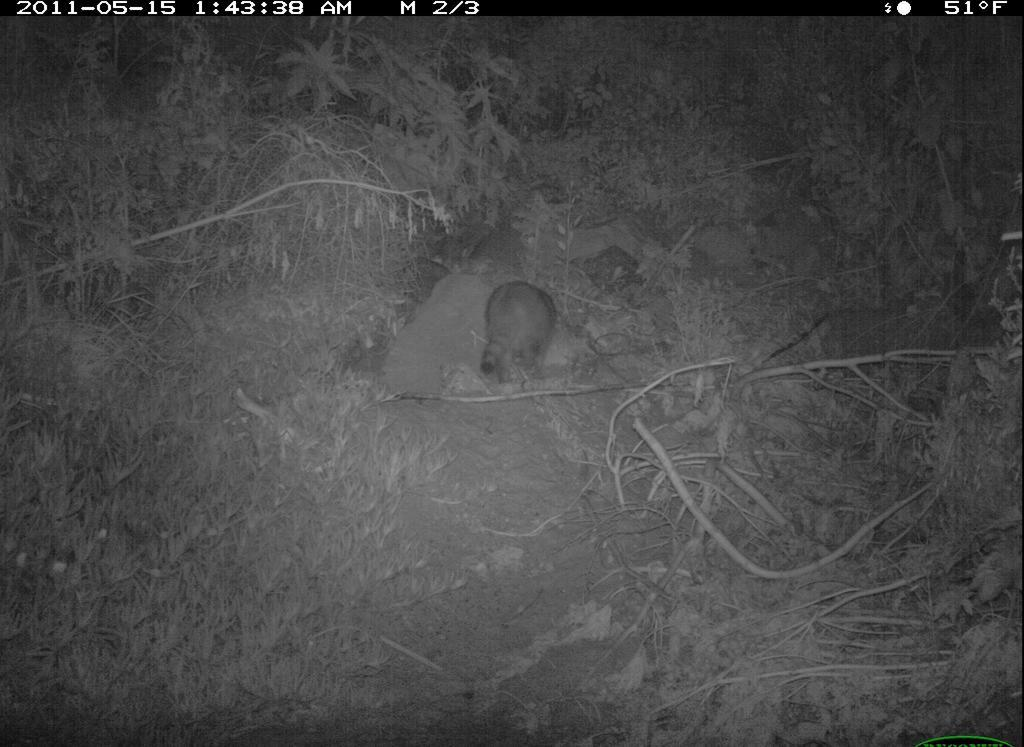raccoon: (465, 254, 568, 432)
